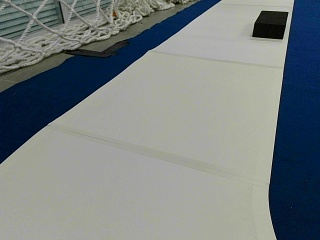block: (252, 10, 288, 38)
